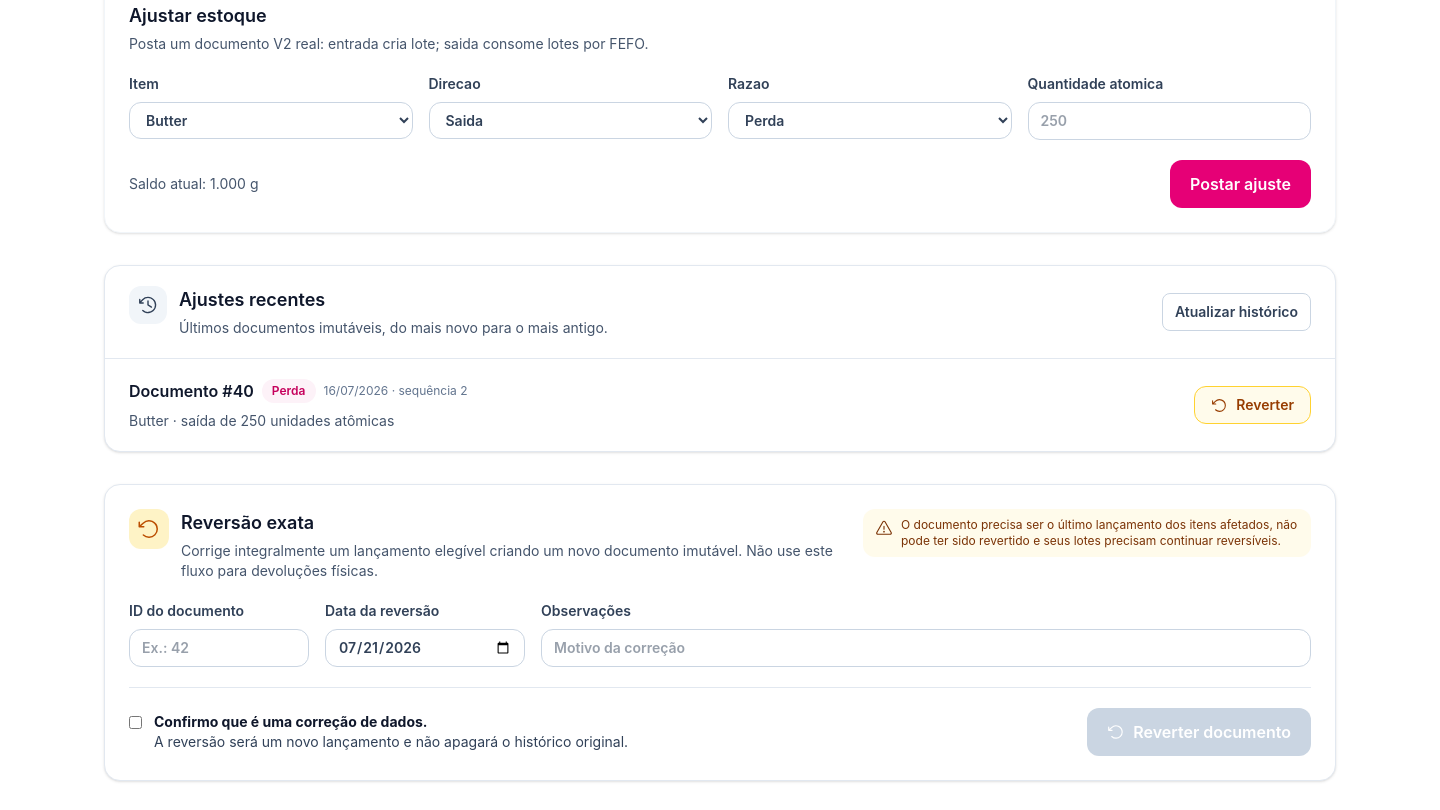
InventoryPage › prefills exact reversal from recent adjustment history
(page scrolled)
What coordinates should you click on to do the following:
click the button with aria-label "Reverter ajuste #40"
I would click on:
 (1253, 405)
Its box is [1194,386,1311,424].
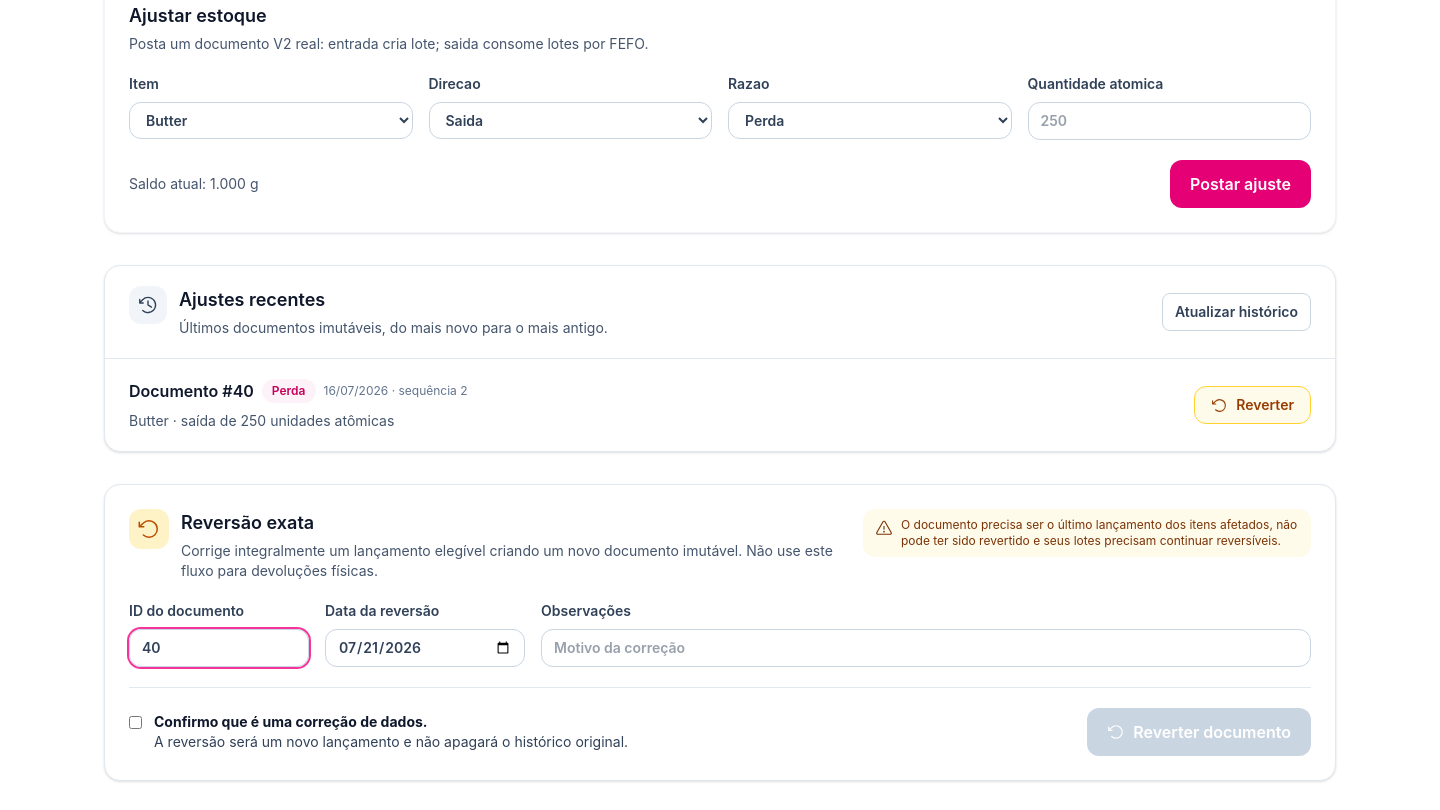
expect the field labelled "ID do documento" holds "40": met, box [129,629,309,667]
